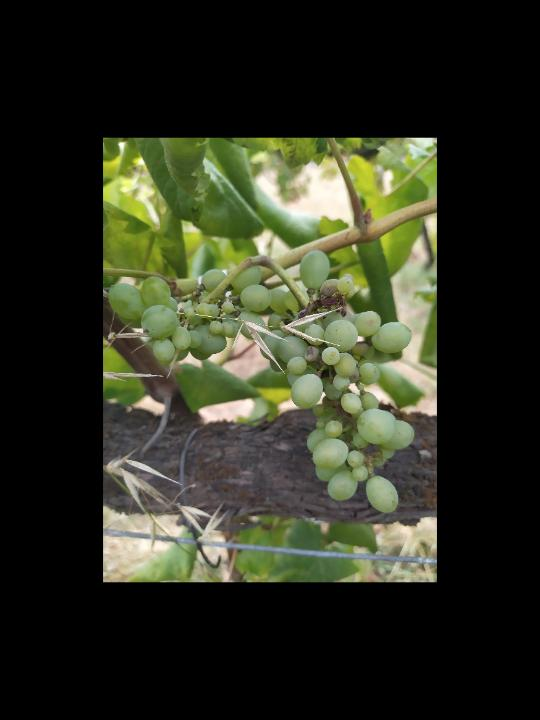grape: (106, 249, 419, 513)
